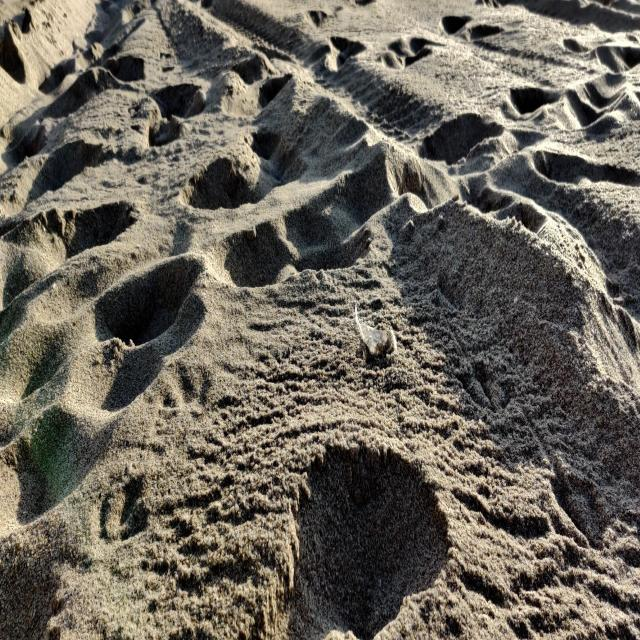litter: (350, 309, 396, 355)
